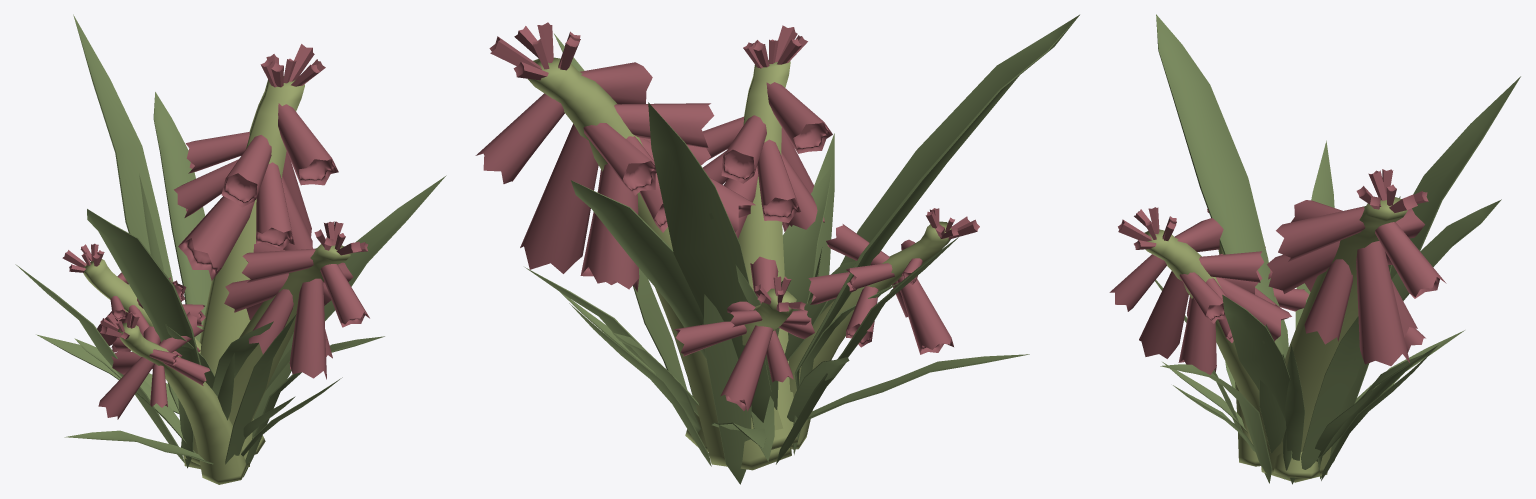
The model's file is PlantC.fbx.
The picture shows the model from 3 angles, left to right: view 1: azimuth 30°, elevation 25°; view 2: azimuth 150°, elevation 25°; view 3: azimuth 270°, elevation 25°; orthographic projection. The views are drawn at different scales.
Parts seen in each view (by area): view 1: PlantC; view 2: PlantC; view 3: PlantC.
Boxes of the visible parts, x1,y1,x2,y2 form: PlantC: (15,14,446,484); PlantC: (475,14,1079,484); PlantC: (1109,14,1520,484).
Size of the model in its own units: 0.7849 by 0.7422 by 0.7086.
